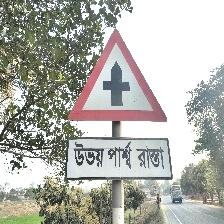Crossroad: (67, 25, 177, 184)
